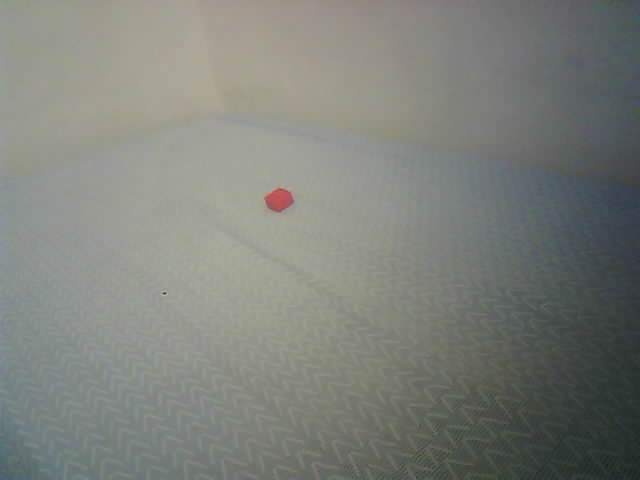lego: (263, 187, 295, 213)
